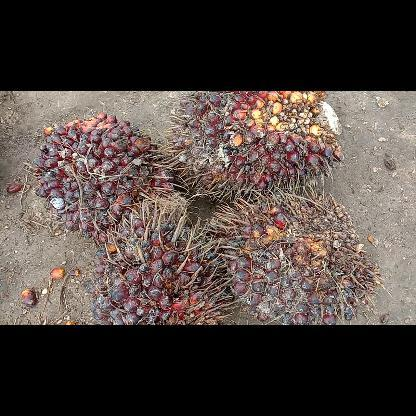TBS masak: (206, 186, 380, 324), (26, 112, 174, 242), (168, 91, 344, 199), (90, 196, 232, 324)
